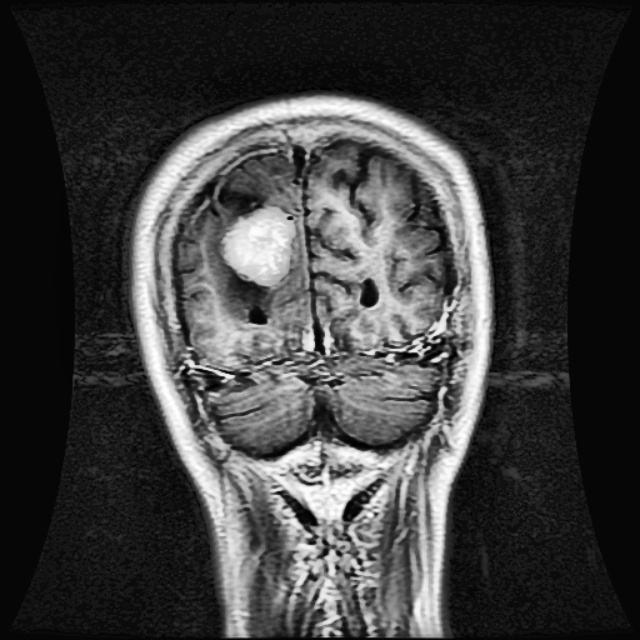Glioma: (223, 207, 297, 284)
